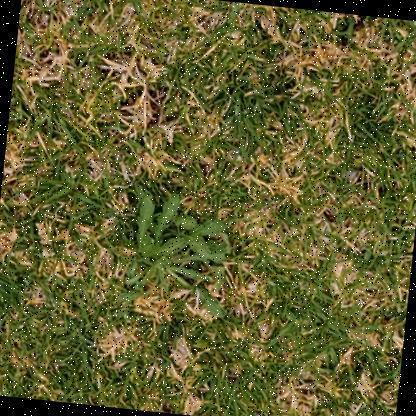Weeds: (116, 187, 239, 317)
